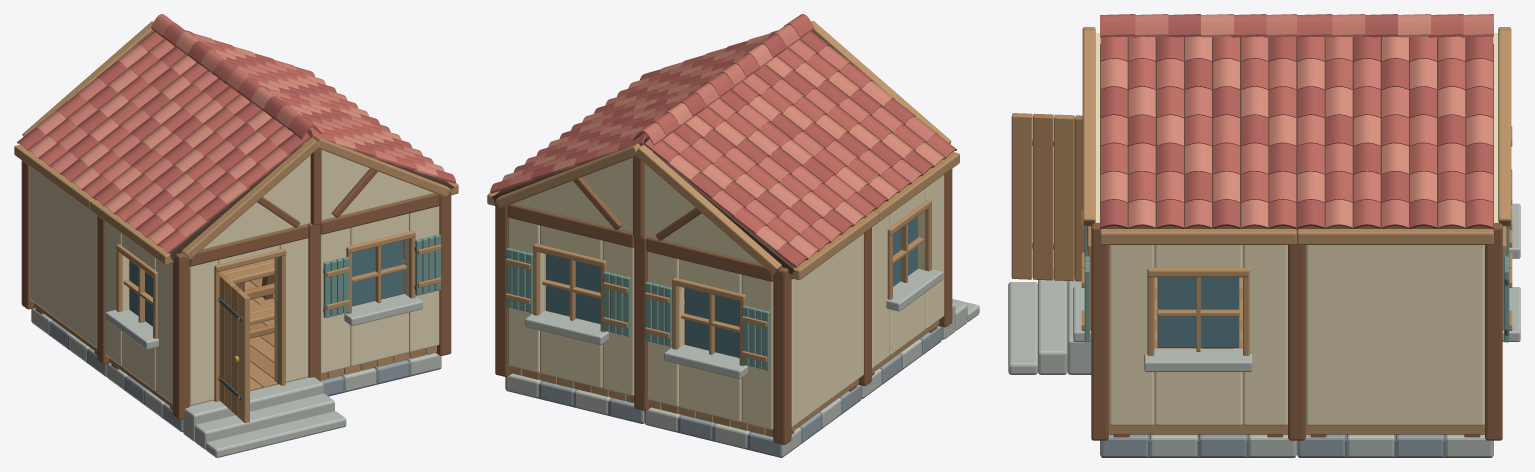
File: cottage_terracotta.glb
3 renders of one model, left to right at view 1: azimuth 30°, elevation 25°; view 2: azimuth 150°, elevation 25°; view 3: azimuth 270°, elevation 25°, orthographic. The views are drawn at different scales.
Parts seen in each view (by area): view 1: roof_slope_terracotta_2m.002, roof_slope_terracotta_2m.004, wall_window_plaster_2m.002, gable_plaster_4m.001, wall_door_plaster_2m.001, wall_window_plaster_2m.001, wall_plaster_2m.001, porch_steps_stone_2m.001, roof_slope_terracotta_2m.001, door_oak.001, roof_slope_terracotta_2m.003, post_timber_2_4m.001 (+18 smaller); view 2: roof_slope_terracotta_2m.004, roof_slope_terracotta_2m.002, wall_window_plaster_2m.004, wall_window_plaster_2m.005, gable_plaster_4m.002, wall_plaster_2m.001, wall_window_plaster_2m.001, roof_slope_terracotta_2m.003, roof_slope_terracotta_2m.001, foundation_stone_2m.002, post_timber_2_4m.003, foundation_stone_2m.004 (+17 smaller); view 3: roof_slope_terracotta_2m.003, roof_slope_terracotta_2m.001, wall_plaster_2m.002, wall_window_plaster_2m.003, door_oak.001, porch_steps_stone_2m.001, roof_ridge_terracotta_2m.001, roof_ridge_terracotta_2m.002, foundation_stone_2m.003, foundation_stone_2m.004, post_timber_2_4m.007, post_timber_2_4m.009 (+10 smaller).
Boxes of the visible parts, bbox=[...] form: roof_slope_terracotta_2m.002: bbox=[90, 86, 310, 264]; roof_slope_terracotta_2m.004: bbox=[14, 31, 229, 209]; wall_window_plaster_2m.002: bbox=[320, 206, 439, 373]; gable_plaster_4m.001: bbox=[181, 136, 450, 259]; wall_door_plaster_2m.001: bbox=[189, 238, 308, 405]; wall_window_plaster_2m.001: bbox=[104, 221, 172, 403]; wall_plaster_2m.001: bbox=[29, 166, 97, 348]; porch_steps_stone_2m.001: bbox=[183, 377, 346, 457]; roof_slope_terracotta_2m.001: bbox=[260, 85, 458, 195]; door_oak.001: bbox=[217, 273, 249, 422]; roof_slope_terracotta_2m.003: bbox=[185, 30, 379, 124]; post_timber_2_4m.001: bbox=[172, 252, 189, 419]; roof_slope_terracotta_2m.004: bbox=[644, 90, 879, 279]; roof_slope_terracotta_2m.002: bbox=[731, 31, 959, 220]; wall_window_plaster_2m.004: bbox=[647, 251, 773, 429]; wall_window_plaster_2m.005: bbox=[508, 217, 634, 395]; gable_plaster_4m.002: bbox=[496, 143, 781, 274]; wall_plaster_2m.001: bbox=[791, 233, 863, 427]; wall_window_plaster_2m.001: bbox=[872, 175, 944, 368]; roof_slope_terracotta_2m.003: bbox=[487, 89, 697, 205]; roof_slope_terracotta_2m.001: bbox=[571, 30, 777, 130]; foundation_stone_2m.002: bbox=[644, 384, 861, 457]; post_timber_2_4m.003: bbox=[773, 267, 791, 444]; foundation_stone_2m.004: bbox=[505, 373, 644, 423]; roof_slope_terracotta_2m.003: bbox=[1297, 36, 1493, 244]; roof_slope_terracotta_2m.001: bbox=[1100, 36, 1296, 244]; wall_plaster_2m.002: bbox=[1306, 245, 1484, 425]; wall_window_plaster_2m.003: bbox=[1109, 245, 1287, 425]; door_oak.001: bbox=[1011, 113, 1084, 281]; porch_steps_stone_2m.001: bbox=[1008, 270, 1091, 374]; roof_ridge_terracotta_2m.001: bbox=[1100, 14, 1296, 37]; roof_ridge_terracotta_2m.002: bbox=[1297, 14, 1493, 37]; foundation_stone_2m.003: bbox=[1100, 434, 1296, 457]; foundation_stone_2m.004: bbox=[1297, 434, 1493, 457]; post_timber_2_4m.007: bbox=[1091, 223, 1108, 440]; post_timber_2_4m.009: bbox=[1485, 223, 1502, 440].
Bounding box in the file's own units: 4.54 × 4.05 × 5.2.
